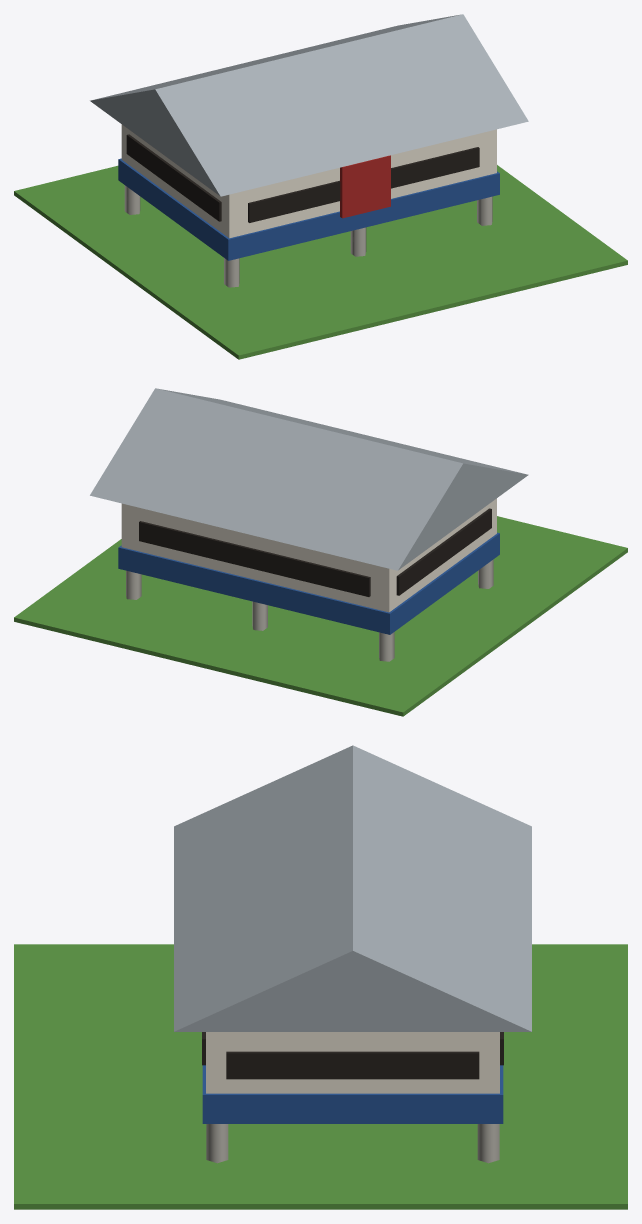
Rendered from building_klinik_desa.glb.
3 renders of one model, top to bottom at view 1: azimuth 30°, elevation 25°; view 2: azimuth 150°, elevation 25°; view 3: azimuth 270°, elevation 25°, orthographic. The views are drawn at different scales.
Parts seen in each view (by area): view 1: building_klinik_desa; view 2: building_klinik_desa; view 3: building_klinik_desa.
Part boxes in pixels (left/top/right/bottom): building_klinik_desa: left=14, top=14, right=627, bottom=359; building_klinik_desa: left=14, top=388, right=627, bottom=716; building_klinik_desa: left=14, top=745, right=627, bottom=1209.
Size of the model in its own units: 0.96 by 0.4 by 0.96.
